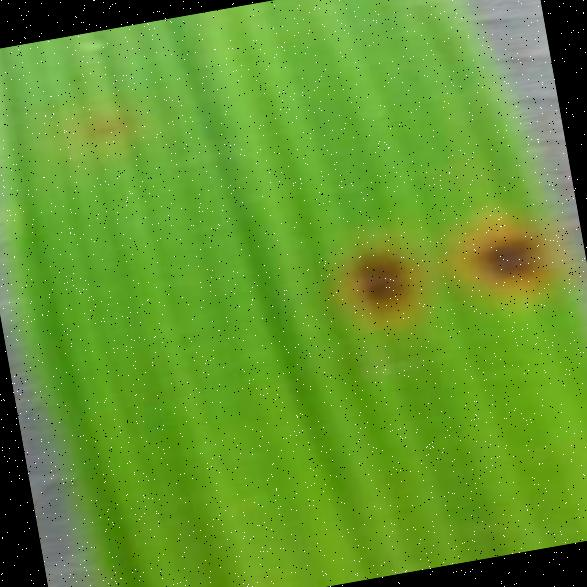Brown_Spot: (441, 189, 570, 326), (311, 216, 438, 343), (64, 92, 140, 154), (50, 58, 88, 89)
